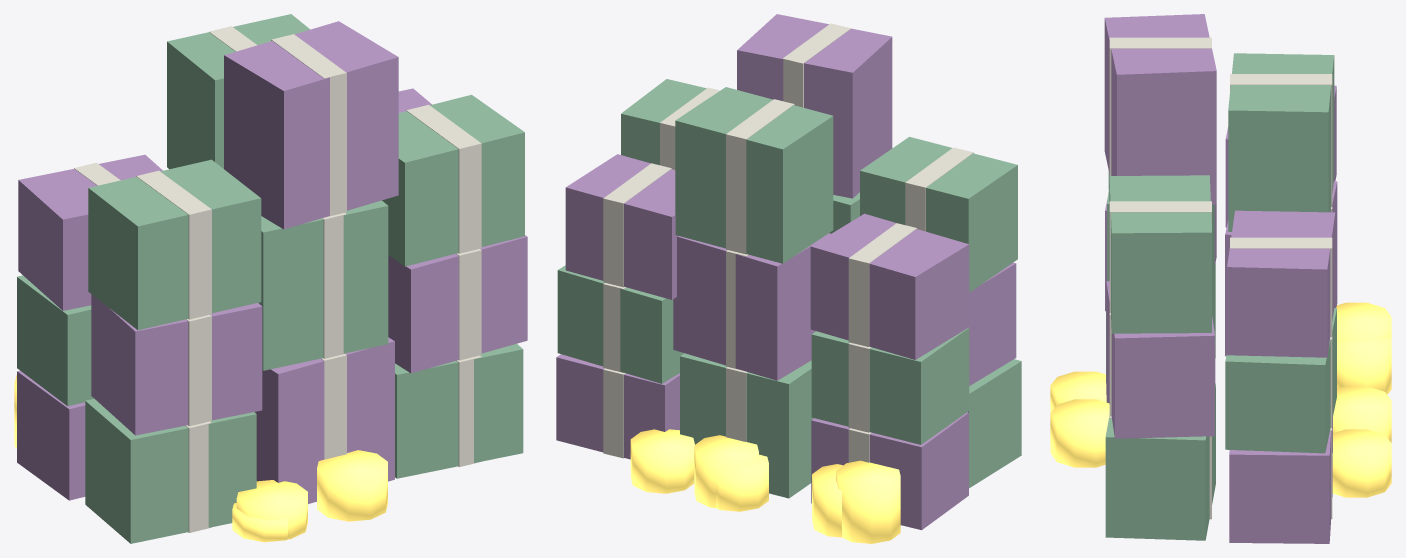
File: money-pile.glb
The picture shows the model from 3 angles, left to right: view 1: azimuth 30°, elevation 25°; view 2: azimuth 150°, elevation 25°; view 3: azimuth 270°, elevation 25°; orthographic projection. The views are drawn at different scales.
Parts seen in each view (by area): view 1: MoneyPile; view 2: MoneyPile; view 3: MoneyPile.
Part boxes in pixels (x1,y1,x2,y2): MoneyPile: [14, 14, 527, 543]; MoneyPile: [556, 14, 1021, 543]; MoneyPile: [1050, 14, 1391, 543].
Bounding box in the file's own units: 0.9051 × 0.898 × 0.68.
